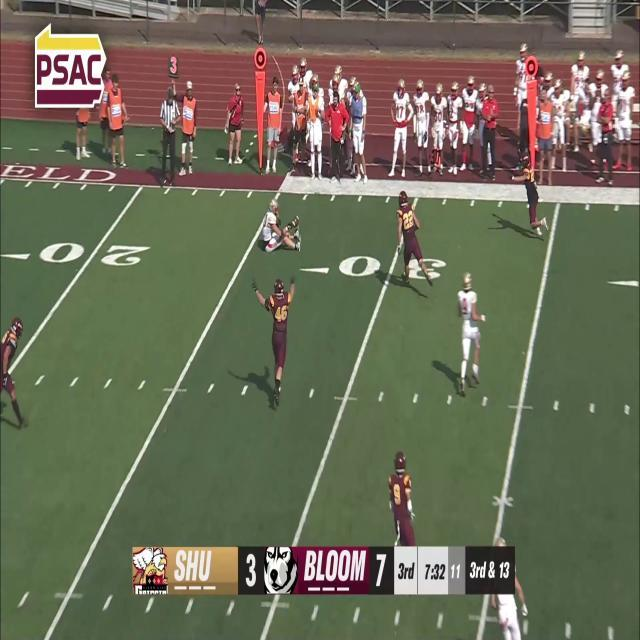football: (291, 214, 300, 228)
